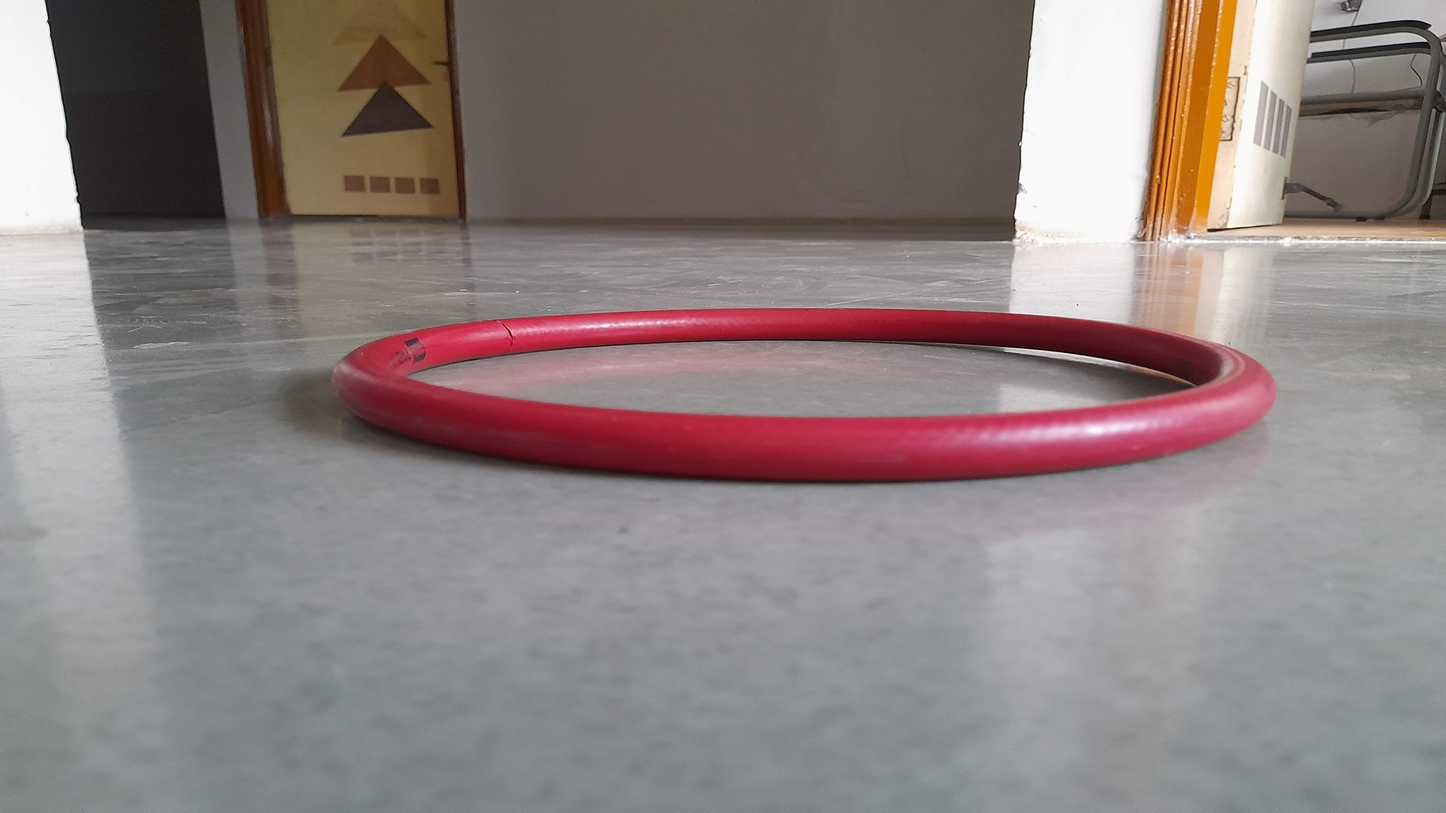Red ring: (332, 305, 1275, 477)
